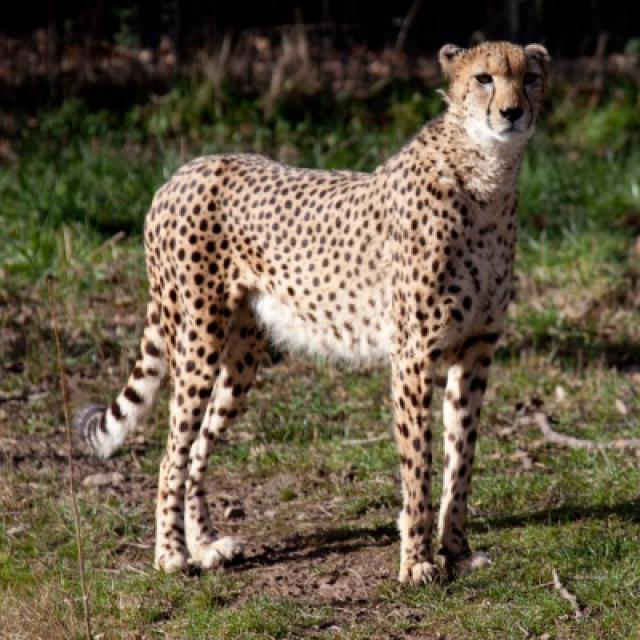Cheetah: (74, 42, 552, 584)
